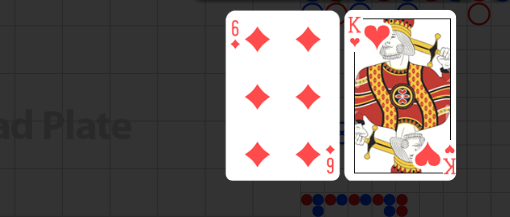6D: (324, 143, 336, 175)
KH: (443, 143, 456, 176)
